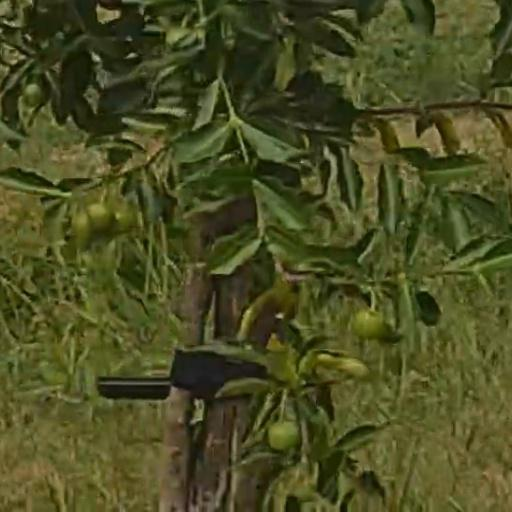acerola_verde: (85, 204, 113, 233), (354, 310, 385, 336), (269, 421, 298, 447)
